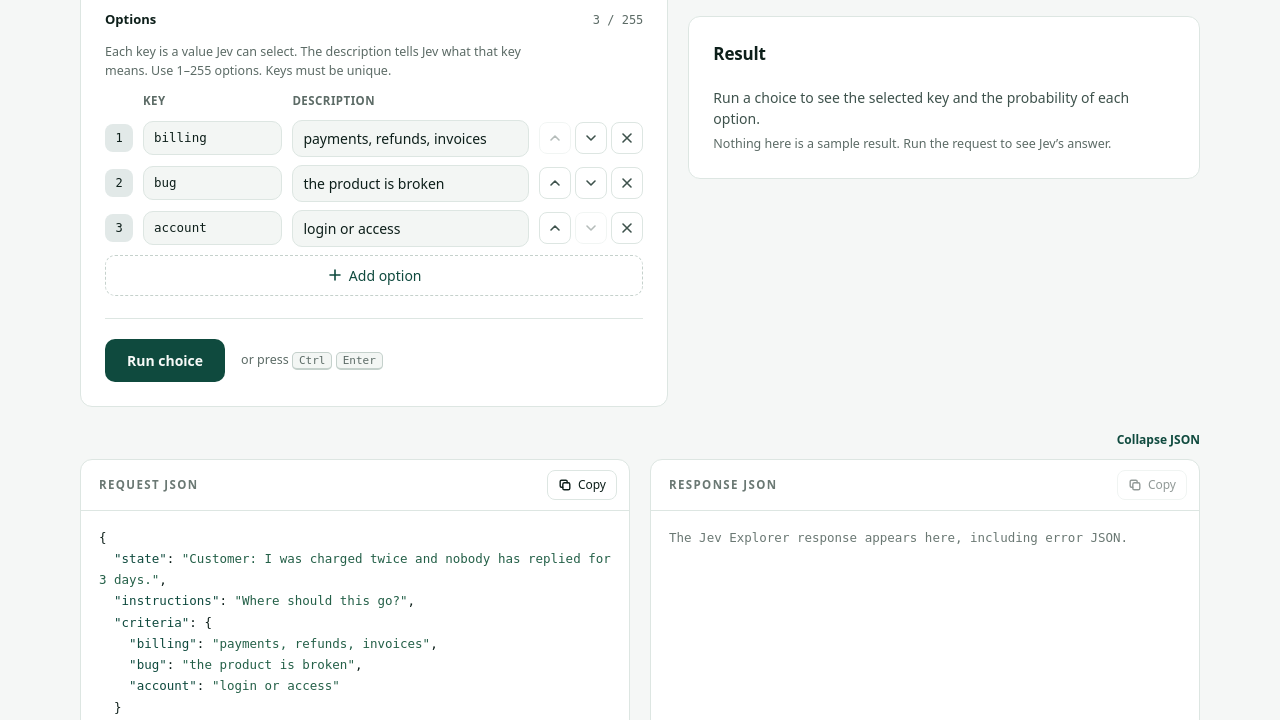
Test: Explorer › shows 429 jev_rate_limited
(page scrolled)
Step 1. Click the button "Run choice" → (165, 360), box [105,338,225,382]
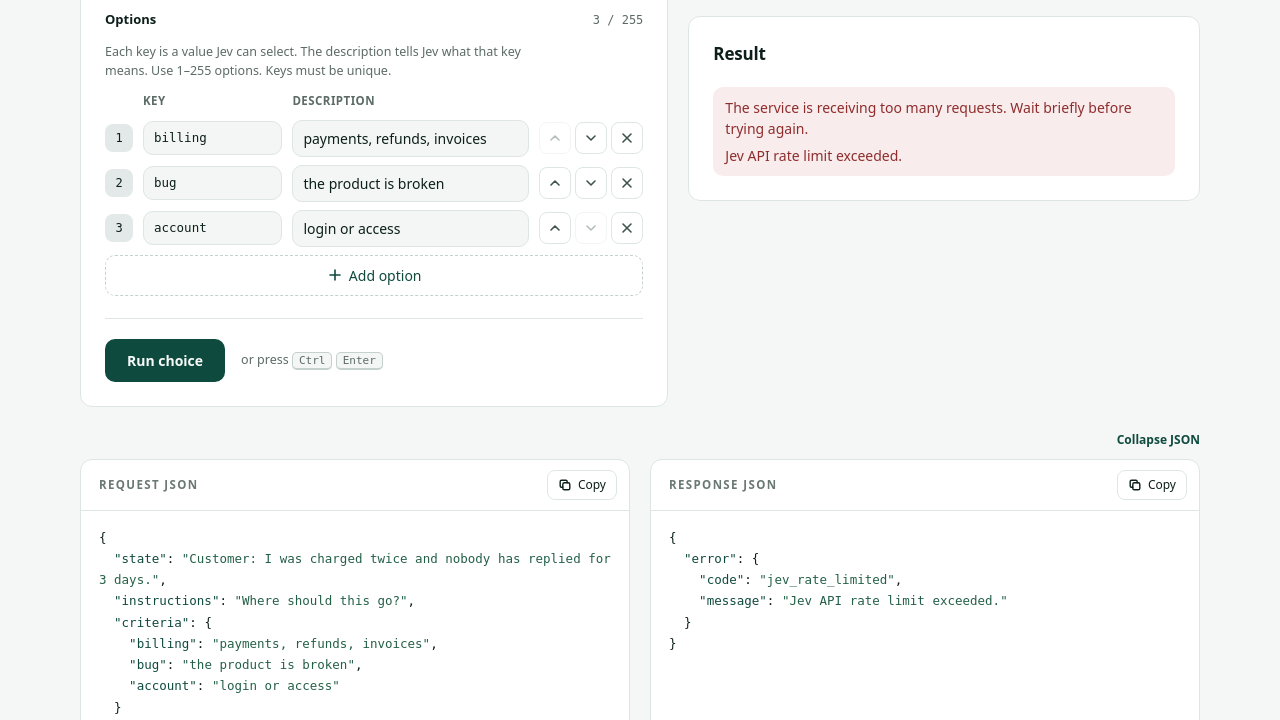
Now the message shows "too many requests", box [725,98,1132,138]
Now the element with id "response-json" shows "\"jev_rate_limited\"", box [759,572,895,587]
